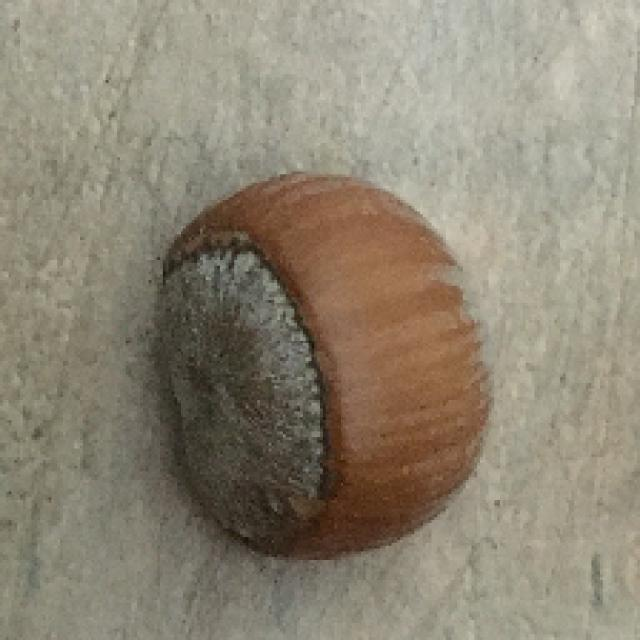qualityHazelnut: (154, 174, 503, 564)
